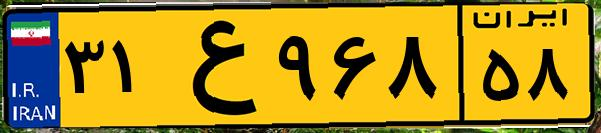1: (110, 28, 158, 98)
3: (57, 26, 110, 100)
5: (475, 38, 525, 113)
6: (330, 28, 385, 110)
8: (385, 28, 445, 110), (525, 38, 570, 115)
9: (270, 28, 330, 110)
ع: (158, 12, 270, 120)
